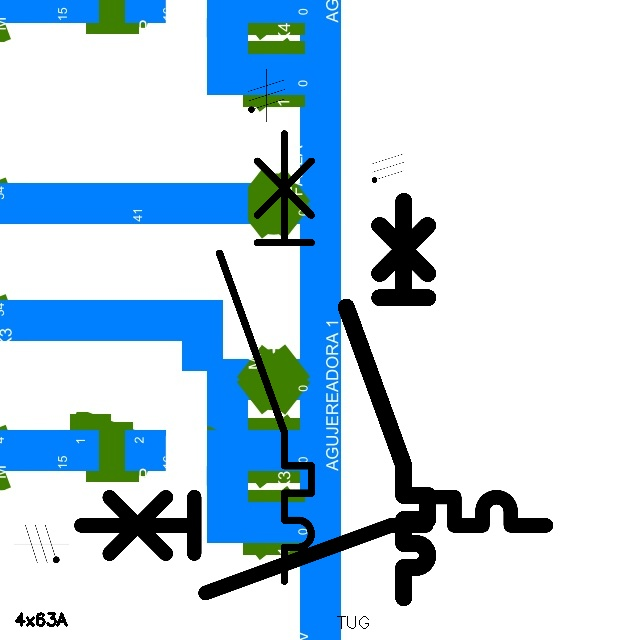interruptor_termomagnetico: (69, 485, 558, 604), (208, 122, 323, 593), (336, 191, 438, 608)
